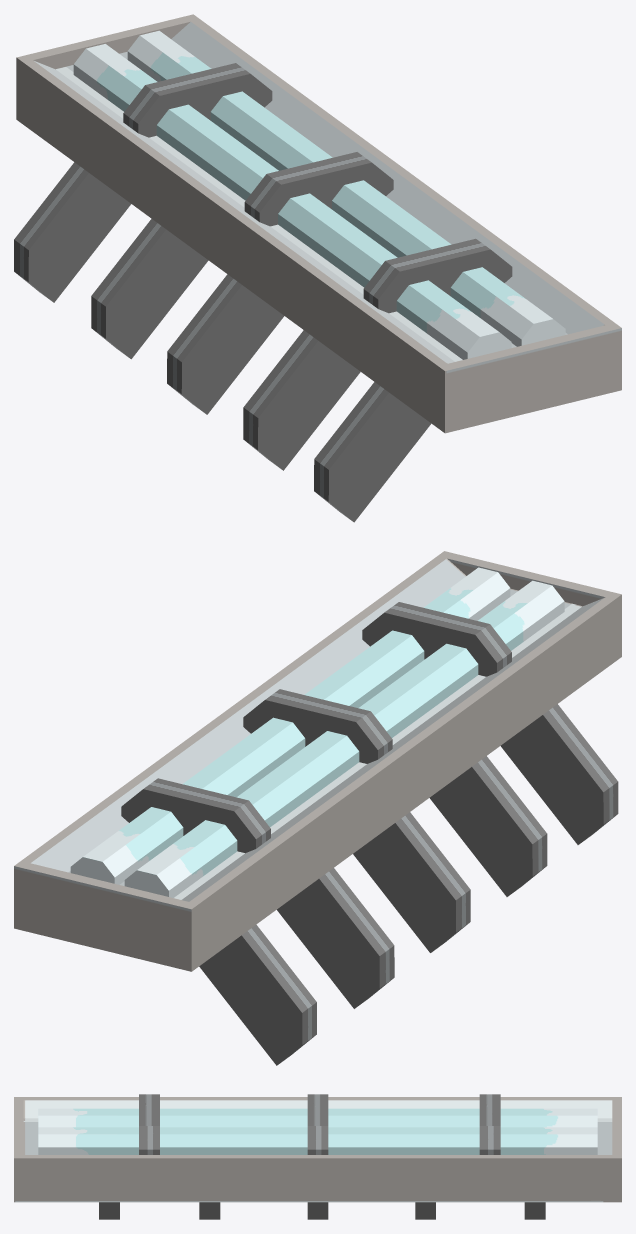
Rendered from lightsClean.obj.
The picture shows the model from 3 angles, top to bottom: view 1: azimuth 30°, elevation 25°; view 2: azimuth 150°, elevation 25°; view 3: azimuth 270°, elevation 25°; orthographic projection. The views are drawn at different scales.
Parts seen in each view (by area): view 1: Cube, Cube.001, Cube.002, Cube.008, Cube.007, Cube.005, Cube.004, Cube.006, Cube.009, Cube.010, Cube.003; view 2: Cube, Cube.001, Cube.002, Cube.005, Cube.008, Cube.007, Cube.004, Cube.006, Cube.010, Cube.003, Cube.009; view 3: Cube, Cube.002, Cube.001, Cube.003, Cube.010, Cube.009, Cube.004, Cube.006, Cube.008, Cube.005, Cube.007.
Part boxes in pixels (box(x1,y1,x2,y2)): Cube: box(16, 14, 621, 433); Cube.001: box(73, 44, 511, 359); Cube.002: box(127, 30, 565, 346); Cube.008: box(243, 330, 360, 470); Cube.007: box(91, 218, 208, 359); Cube.005: box(314, 382, 431, 522); Cube.004: box(167, 274, 283, 414); Cube.006: box(14, 162, 130, 302); Cube.009: box(363, 238, 512, 313); Cube.010: box(123, 63, 272, 137); Cube.003: box(244, 152, 393, 226); Cube: box(14, 551, 621, 971); Cube.001: box(124, 580, 564, 897); Cube.002: box(70, 567, 510, 884); Cube.005: box(501, 704, 618, 844); Cube.008: box(429, 756, 547, 896); Cube.007: box(277, 868, 394, 1008); Cube.004: box(353, 812, 470, 952); Cube.006: box(199, 924, 316, 1065); Cube.010: box(121, 778, 270, 853); Cube.003: box(243, 689, 392, 763); Cube.009: box(362, 602, 511, 676); Cube: box(14, 1097, 621, 1202); Cube.002: box(38, 1127, 597, 1154); Cube.001: box(38, 1108, 597, 1127); Cube.003: box(307, 1094, 328, 1154); Cube.010: box(479, 1094, 500, 1154); Cube.009: box(139, 1094, 159, 1154); Cube.004: box(307, 1202, 328, 1219); Cube.006: box(524, 1202, 545, 1219); Cube.008: box(199, 1202, 220, 1219); Cube.005: box(99, 1202, 119, 1219); Cube.007: box(415, 1202, 435, 1219).
Size of the model in its own units: 1.7 by 1.48 by 5.4.
11 materials, 11 textured.
